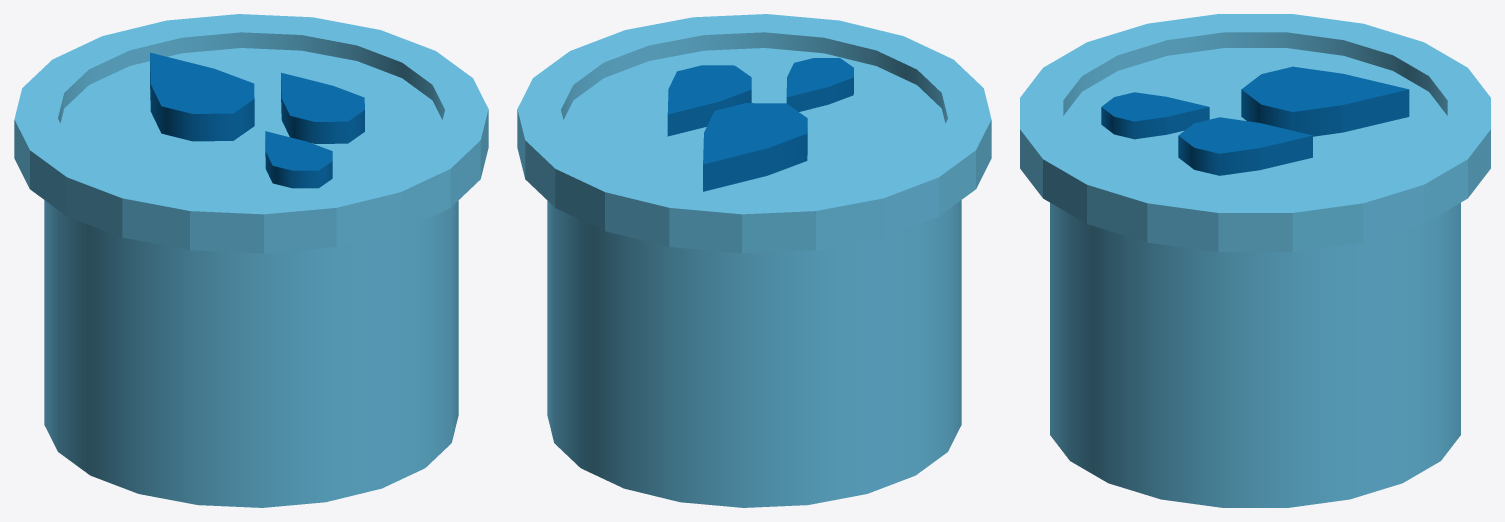
3 renders of one model, left to right at view 1: azimuth 30°, elevation 25°; view 2: azimuth 150°, elevation 25°; view 3: azimuth 270°, elevation 25°, orthographic.
Visible parts, largest first — view 1: su; view 2: su; view 3: su.
Part boxes in pixels (box(x1,y1,x2,y2)): su: box(14, 14, 488, 507); su: box(517, 14, 991, 507); su: box(1020, 14, 1490, 507).
Bounding box in the file's own units: 2.56 × 1.92 × 2.56.
1 material, 1 textured.
